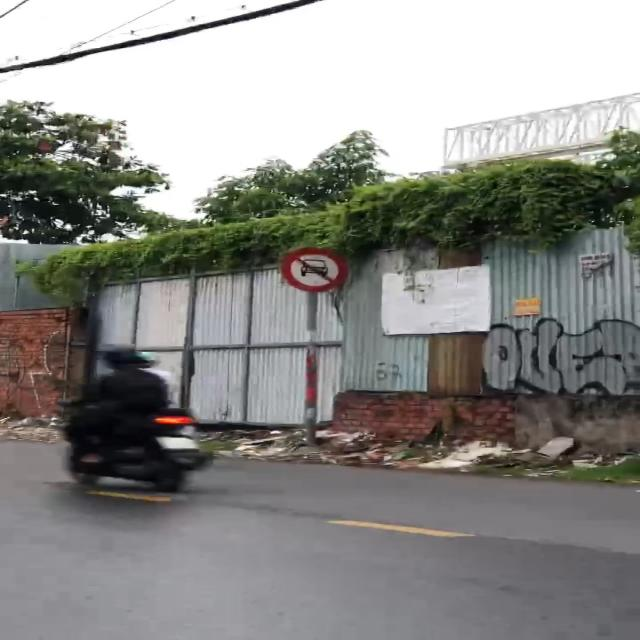Bien bao cam xe oto: (276, 244, 356, 292)
